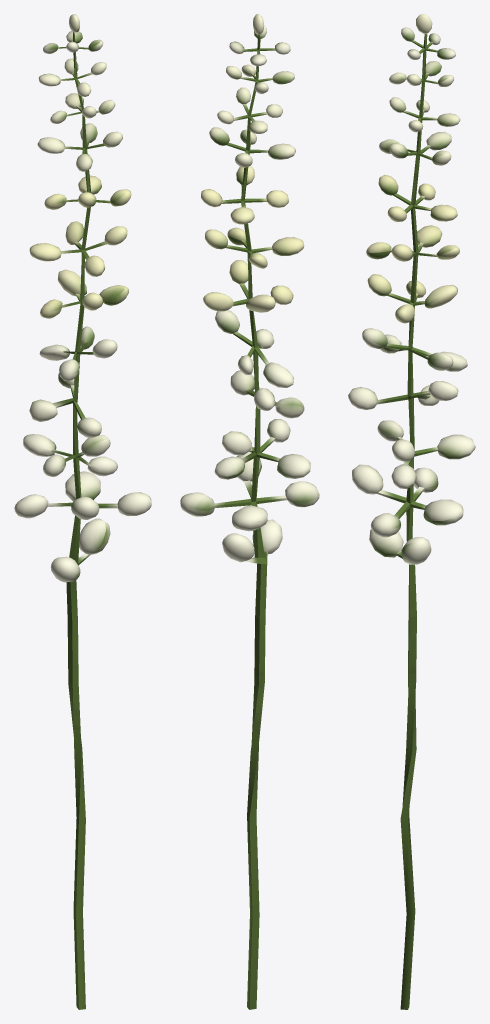
The model's file is SM_Gypsophile.fbx.
3 views of the same model, side by side, from view 1: azimuth 30°, elevation 25°; view 2: azimuth 210°, elevation 25°; view 3: azimuth 270°, elevation 25° (orthographic).
Parts seen in each view (by area): view 1: SM_Gypsophile; view 2: SM_Gypsophile; view 3: SM_Gypsophile.
Part boxes in pixels (x1,y1,x2,y2): SM_Gypsophile: (14, 14, 151, 1009); SM_Gypsophile: (180, 14, 319, 1009); SM_Gypsophile: (348, 14, 475, 1009).
Bounding box in the file's own units: 0.0235 × 0.195 × 0.0227.
